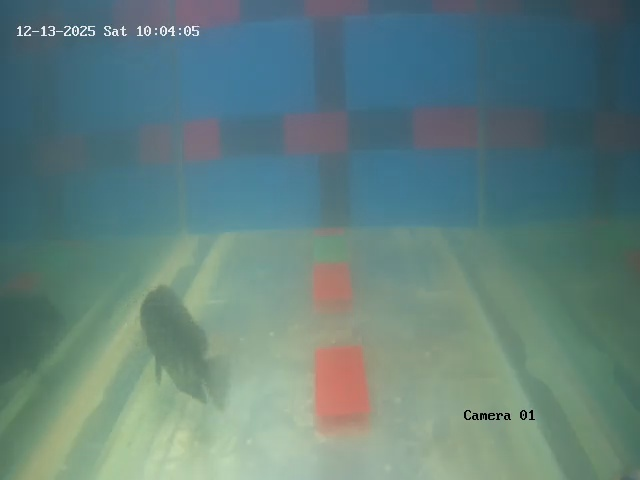fish: (135, 284, 216, 390)
